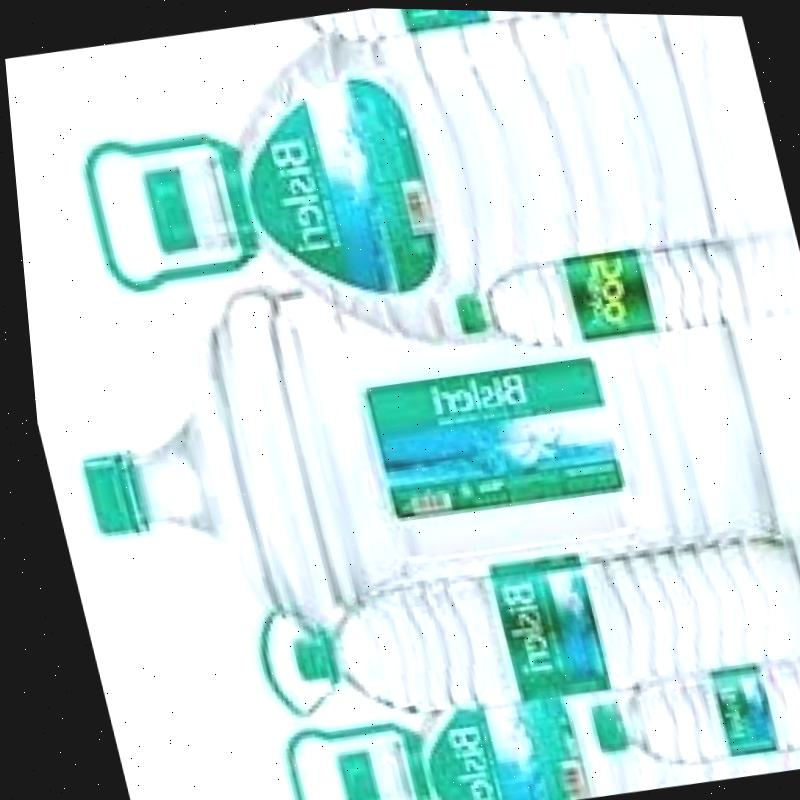botella: (263, 512, 800, 736), (438, 224, 750, 365), (568, 641, 800, 781), (300, 5, 674, 57)
